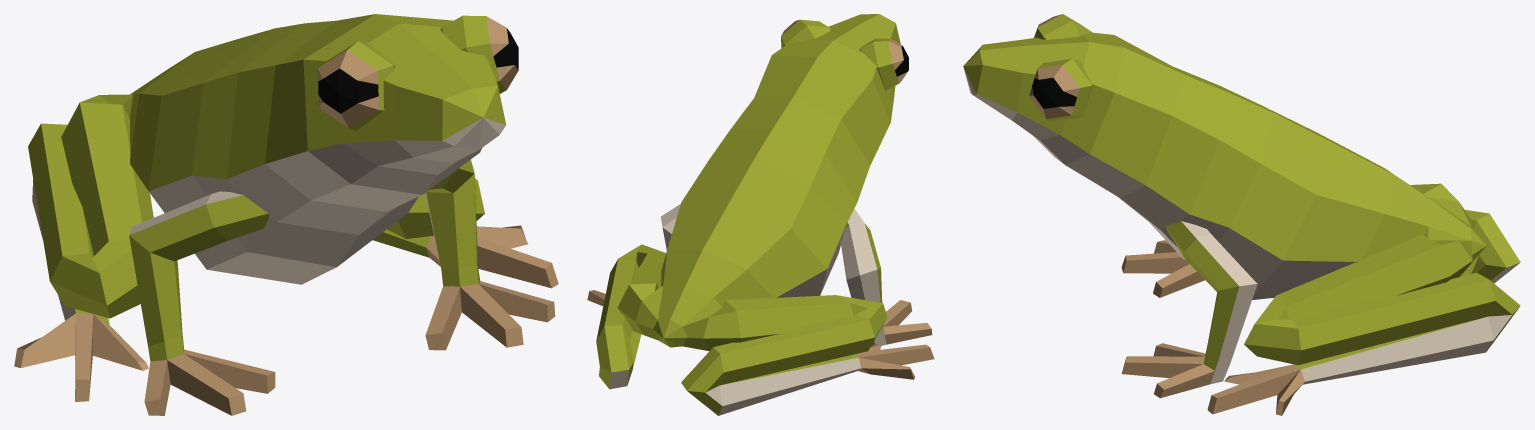
The model's file is Frog.gltf.
The picture shows the model from 3 angles, left to right: view 1: azimuth 30°, elevation 25°; view 2: azimuth 150°, elevation 25°; view 3: azimuth 270°, elevation 25°; orthographic projection. The views are drawn at different scales.
Visible parts, largest first — view 1: Geo_Frog; view 2: Geo_Frog; view 3: Geo_Frog.
Part boxes in pixels (bbox=[...]): Geo_Frog: bbox=[14, 14, 558, 415]; Geo_Frog: bbox=[587, 14, 934, 415]; Geo_Frog: bbox=[963, 14, 1520, 415].
Bounding box in the file's own units: 45.75 × 32.68 × 57.58.
1 material, 1 textured.
